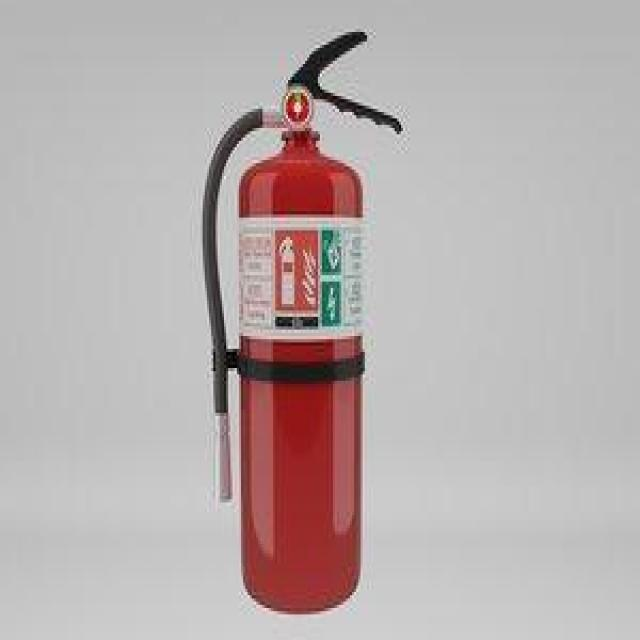fire_extinguisher: (192, 22, 408, 614)
